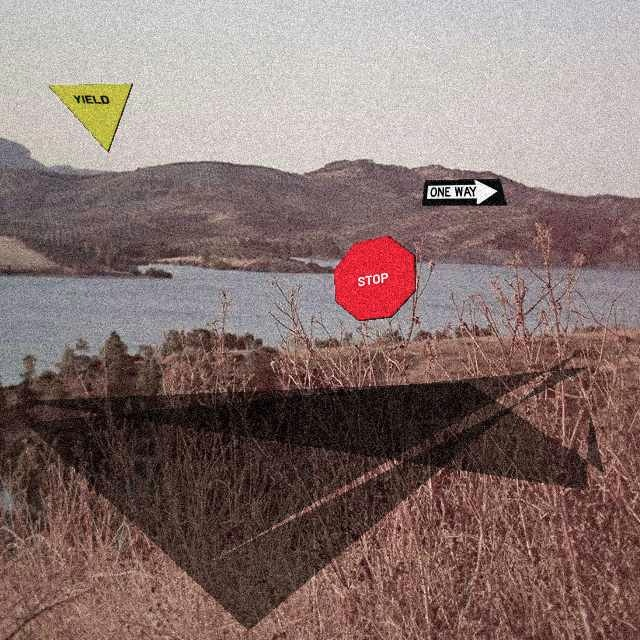ONE_WAY_ right: (421, 178, 507, 206)
STOP: (333, 235, 416, 321)
YIELD: (47, 83, 133, 153)
